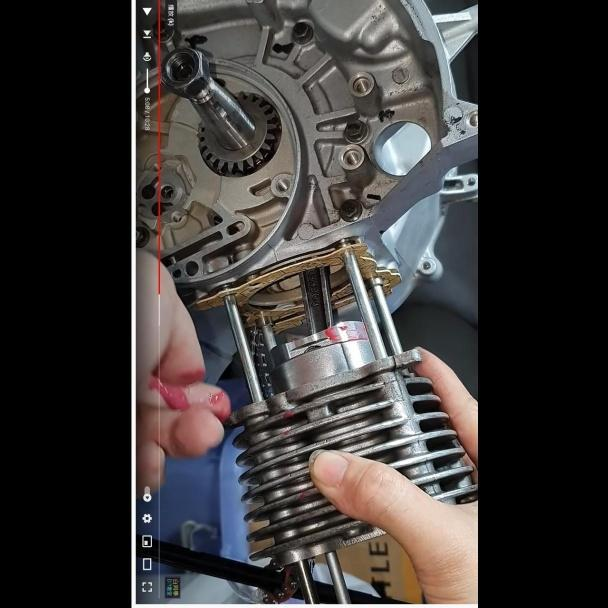hole: (349, 71, 373, 96), (340, 146, 363, 166), (166, 208, 185, 225), (274, 175, 292, 192)
